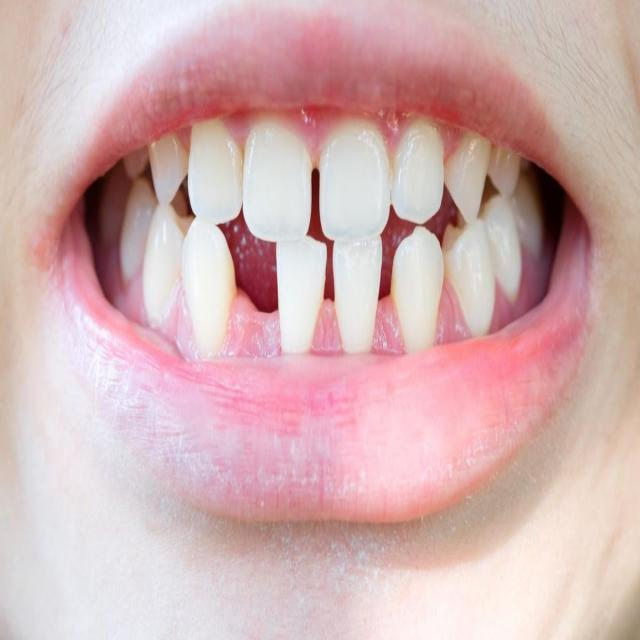Gap: (369, 242, 416, 334), (308, 240, 350, 339), (289, 156, 337, 229)
Missing: (186, 227, 307, 333)
